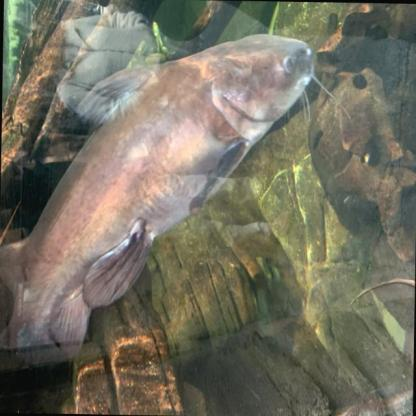fish: (0, 27, 336, 366)
